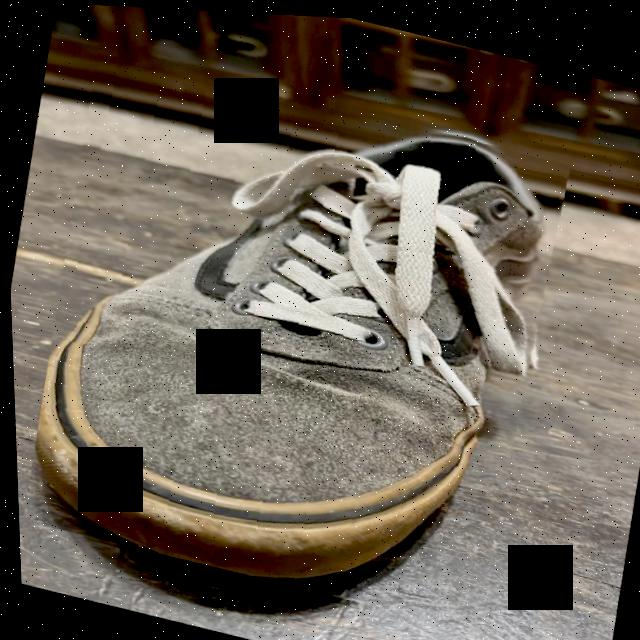shoe: (5, 36, 585, 635)
